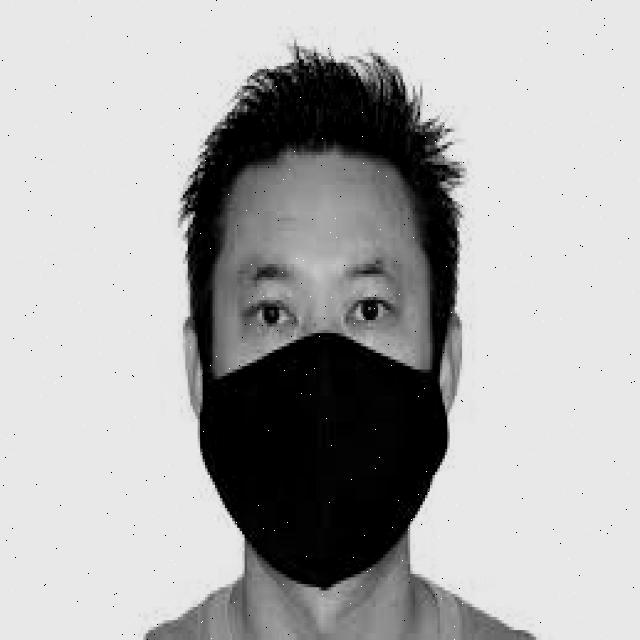fake: (193, 331, 455, 590)
real: (181, 156, 461, 596)
